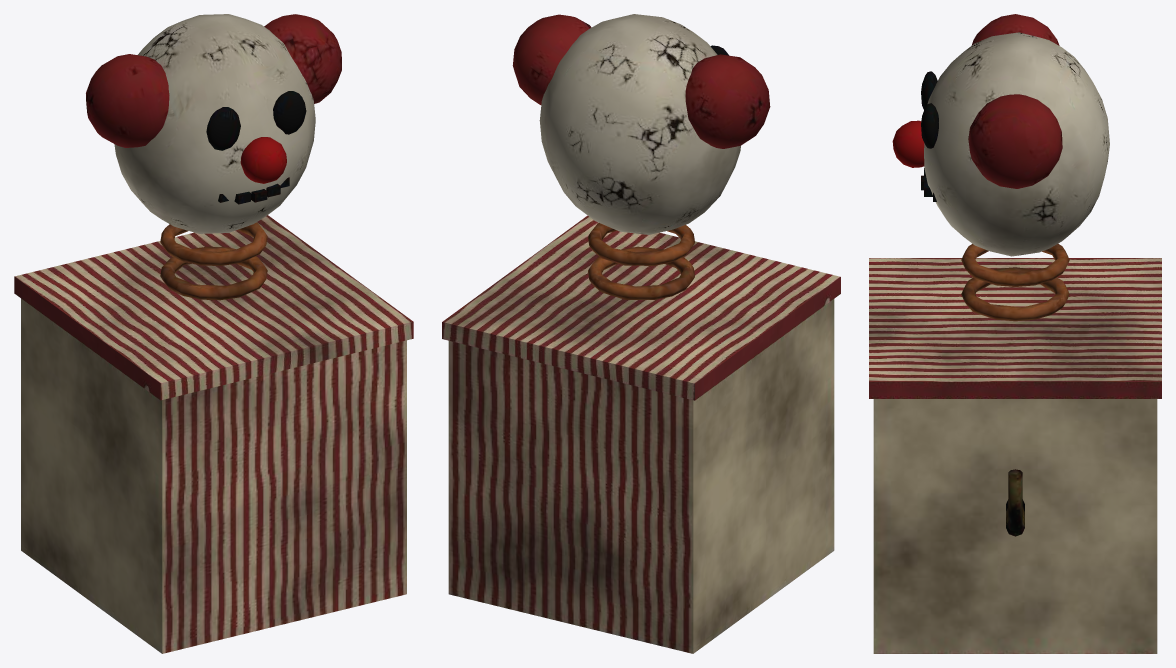
File: jackbox.glb
The picture shows the model from 3 angles, left to right: view 1: azimuth 30°, elevation 25°; view 2: azimuth 150°, elevation 25°; view 3: azimuth 270°, elevation 25°; orthographic projection.
Parts seen in each view (by area): view 1: Main, Popper, Lid; view 2: Main, Popper, Lid; view 3: Main, Popper, Lid.
Boxes of the visible parts, x1,y1,x2,y2 form: Main: (21,298,406,653); Popper: (86,14,341,300); Lid: (14,215,413,400); Main: (448,299,834,653); Popper: (512,14,770,299); Lid: (442,215,840,400); Main: (873,399,1157,653); Popper: (892,14,1109,321); Lid: (869,258,1161,398).
Bounding box in the file's own units: 0.745 × 1.29 × 0.62.
Materials: 3 (3 with a texture image).
